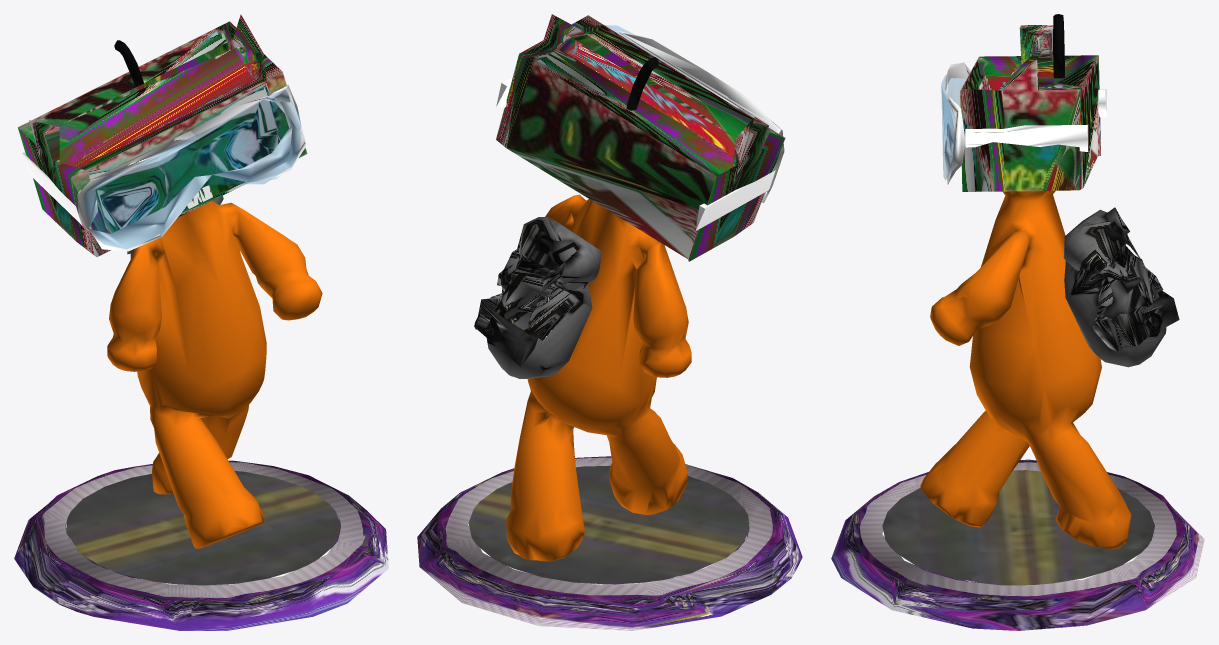
3 views of the same model, side by side, from view 1: azimuth 30°, elevation 25°; view 2: azimuth 150°, elevation 25°; view 3: azimuth 270°, elevation 25° (orthographic). The views are drawn at different scales.
Size of the model in its own units: 1.45 by 2.19 by 1.44.
10 materials, 4 textured.
